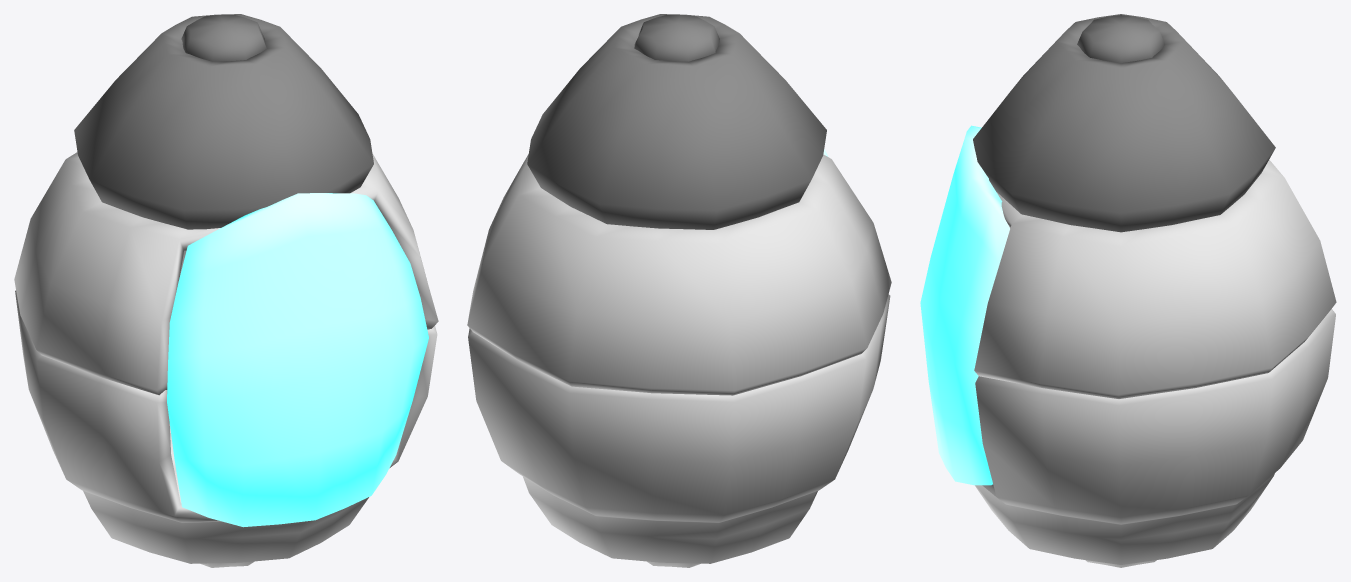
Rendered from Loot Pod.fbx.
3 renders of one model, left to right at view 1: azimuth 30°, elevation 25°; view 2: azimuth 150°, elevation 25°; view 3: azimuth 270°, elevation 25°, orthographic.
Parts seen in each view (by area): view 1: Cylinder.017, Cylinder.020; view 2: Cylinder.017; view 3: Cylinder.017, Cylinder.020.
Boxes of the visible parts, x1=… form: Cylinder.017: x1=14, y1=14, x2=438, y2=567; Cylinder.020: x1=167, y1=193, x2=428, y2=527; Cylinder.017: x1=467, y1=14, x2=891, y2=567; Cylinder.017: x1=973, y1=14, x2=1336, y2=567; Cylinder.020: x1=920, y1=125, x2=1009, y2=485.
Bounding box in the file's own units: 298 × 397 × 285.
